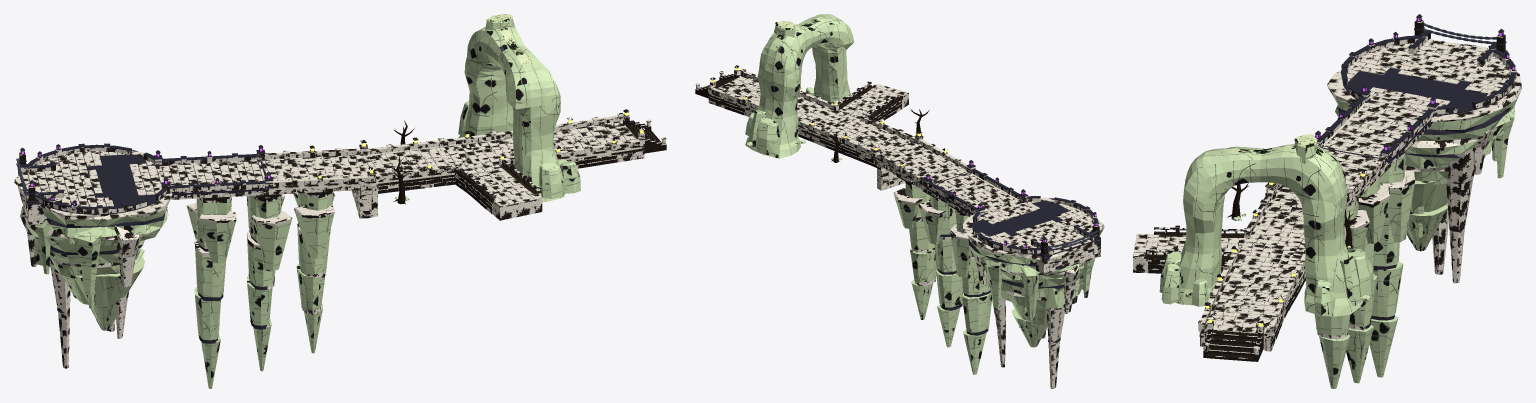
File: ILHA2_08_NEXT_ISLAND_94f9d4.fbx
3 renders of one model, left to right at view 1: azimuth 30°, elevation 25°; view 2: azimuth 150°, elevation 25°; view 3: azimuth 270°, elevation 25°, orthographic. The views are drawn at different scales.
Parts seen in each view (by area): view 1: DB_Exit_Islet__Stone_DB_Dusk, DB_Exit_Trail__Stone_Paving_DB, DB_Exit_Arch__Cliff_Rock_DB, DB_Exit_Islet__Cliff_Rock_DB_Dusk, DB_Exit_Bridge__Cliff_Rock_DB_Dusk, DB_Exit_Bridge__Cliff_Rock_DB_C, DB_Exit_Bridge__Stone_DB_Dusk, DB_Exit_Islet__P_Shadow_Stone, DB_Exit_Trail__Stone_DB_Block_B, DB_Exit_Trail__Stone_DB_Block, DB_Exit_Bridge__Stone_Paving_DB, DB_Exit_Arch__Cliff_Rock_DB_Top (+6 smaller); view 2: DB_Exit_Islet__Stone_DB_Dusk, DB_Exit_Arch__Cliff_Rock_DB, DB_Exit_Bridge__Cliff_Rock_DB_Dusk, DB_Exit_Trail__Stone_Paving_DB, DB_Exit_Islet__Cliff_Rock_DB_Dusk, DB_Exit_Islet__P_Shadow_Stone, DB_Exit_Bridge__Cliff_Rock_DB_C, DB_Exit_Bridge__Stone_DB_Dusk, DB_Exit_Trail__Stone_DB_Block_B, DB_Exit_Bridge__Stone_Paving_DB, DB_Exit_Arch__Cliff_Rock_DB_Dark, DB_Exit_Bridge__Stone_DB_Block_B (+5 smaller); view 3: DB_Exit_Arch__Cliff_Rock_DB, DB_Exit_Islet__Stone_DB_Dusk, DB_Exit_Trail__Stone_Paving_DB, DB_Exit_Islet__Cliff_Rock_DB_Dusk, DB_Exit_Bridge__Cliff_Rock_DB_Dusk, DB_Exit_Islet__P_Shadow_Stone, DB_Exit_Bridge__Stone_DB_Dusk, DB_Exit_Bridge__Cliff_Rock_DB_C, DB_Exit_Arch__Cliff_Rock_DB_Dark, DB_Exit_Arch__Cliff_Rock_DB_Top, DB_Exit_Trail__Stone_DB_Block_B, DB_Exit_Bridge__P_Shadow_Stone (+8 smaller).
Part boxes in pixels (bbox=[...]): DB_Exit_Islet__Stone_DB_Dusk: bbox=[14, 146, 172, 368]; DB_Exit_Trail__Stone_Paving_DB: bbox=[261, 112, 666, 206]; DB_Exit_Arch__Cliff_Rock_DB: bbox=[405, 18, 580, 200]; DB_Exit_Islet__Cliff_Rock_DB_Dusk: bbox=[23, 192, 169, 330]; DB_Exit_Bridge__Cliff_Rock_DB_Dusk: bbox=[187, 195, 268, 388]; DB_Exit_Bridge__Cliff_Rock_DB_C: bbox=[264, 191, 334, 362]; DB_Exit_Bridge__Stone_DB_Dusk: bbox=[154, 154, 272, 257]; DB_Exit_Islet__P_Shadow_Stone: bbox=[18, 143, 166, 313]; DB_Exit_Trail__Stone_DB_Block_B: bbox=[269, 114, 665, 213]; DB_Exit_Trail__Stone_DB_Block: bbox=[370, 118, 666, 220]; DB_Exit_Bridge__Stone_Paving_DB: bbox=[264, 143, 375, 183]; DB_Exit_Arch__Cliff_Rock_DB_Top: bbox=[463, 27, 576, 174]; DB_Exit_Islet__Stone_DB_Dusk: bbox=[963, 197, 1104, 388]; DB_Exit_Arch__Cliff_Rock_DB: bbox=[745, 23, 853, 159]; DB_Exit_Bridge__Cliff_Rock_DB_Dusk: bbox=[926, 199, 991, 374]; DB_Exit_Trail__Stone_Paving_DB: bbox=[695, 69, 967, 185]; DB_Exit_Islet__Cliff_Rock_DB_Dusk: bbox=[968, 228, 1103, 347]; DB_Exit_Islet__P_Shadow_Stone: bbox=[968, 196, 1100, 343]; DB_Exit_Bridge__Cliff_Rock_DB_C: bbox=[894, 182, 944, 335]; DB_Exit_Bridge__Stone_DB_Dusk: bbox=[924, 166, 1027, 260]; DB_Exit_Trail__Stone_DB_Block_B: bbox=[696, 67, 926, 188]; DB_Exit_Bridge__Stone_Paving_DB: bbox=[871, 133, 967, 182]; DB_Exit_Arch__Cliff_Rock_DB_Dark: bbox=[745, 23, 847, 159]; DB_Exit_Bridge__Stone_DB_Block_B: bbox=[871, 137, 969, 306]; DB_Exit_Arch__Cliff_Rock_DB: bbox=[1159, 142, 1373, 315]; DB_Exit_Islet__Stone_DB_Dusk: bbox=[1327, 33, 1521, 283]; DB_Exit_Trail__Stone_Paving_DB: bbox=[1133, 148, 1386, 361]; DB_Exit_Islet__Cliff_Rock_DB_Dusk: bbox=[1330, 91, 1520, 251]; DB_Exit_Bridge__Cliff_Rock_DB_Dusk: bbox=[1349, 152, 1414, 383]; DB_Exit_Islet__P_Shadow_Stone: bbox=[1338, 30, 1516, 228]; DB_Exit_Bridge__Stone_DB_Dusk: bbox=[1317, 93, 1438, 220]; DB_Exit_Bridge__Cliff_Rock_DB_C: bbox=[1314, 179, 1388, 388]; DB_Exit_Arch__Cliff_Rock_DB_Dark: bbox=[1175, 167, 1363, 316]; DB_Exit_Arch__Cliff_Rock_DB_Top: bbox=[1164, 144, 1367, 292]; DB_Exit_Trail__Stone_DB_Block_B: bbox=[1133, 162, 1388, 354]; DB_Exit_Bridge__P_Shadow_Stone: bbox=[1315, 84, 1439, 328].
Bounding box in the file's own units: 191 × 109 × 100.
10 materials, 6 textured.
